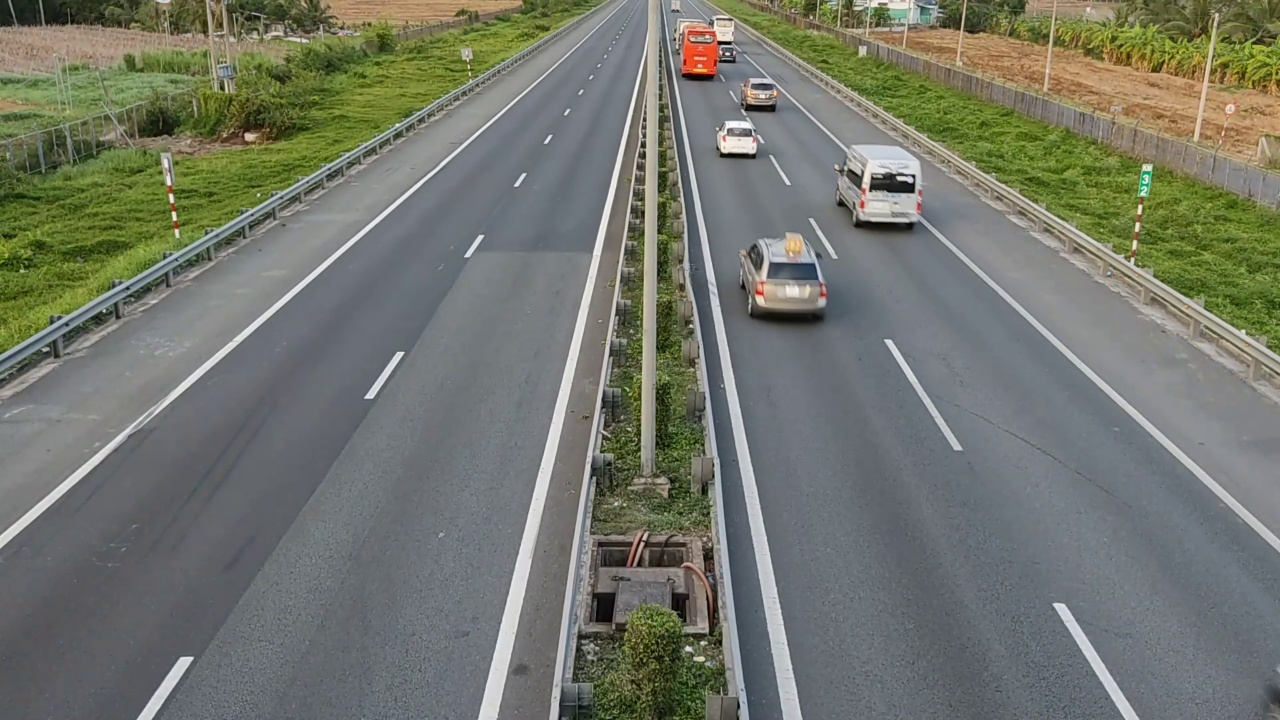car: (738, 233, 829, 320), (833, 142, 924, 227), (715, 119, 761, 158), (741, 77, 779, 111)
